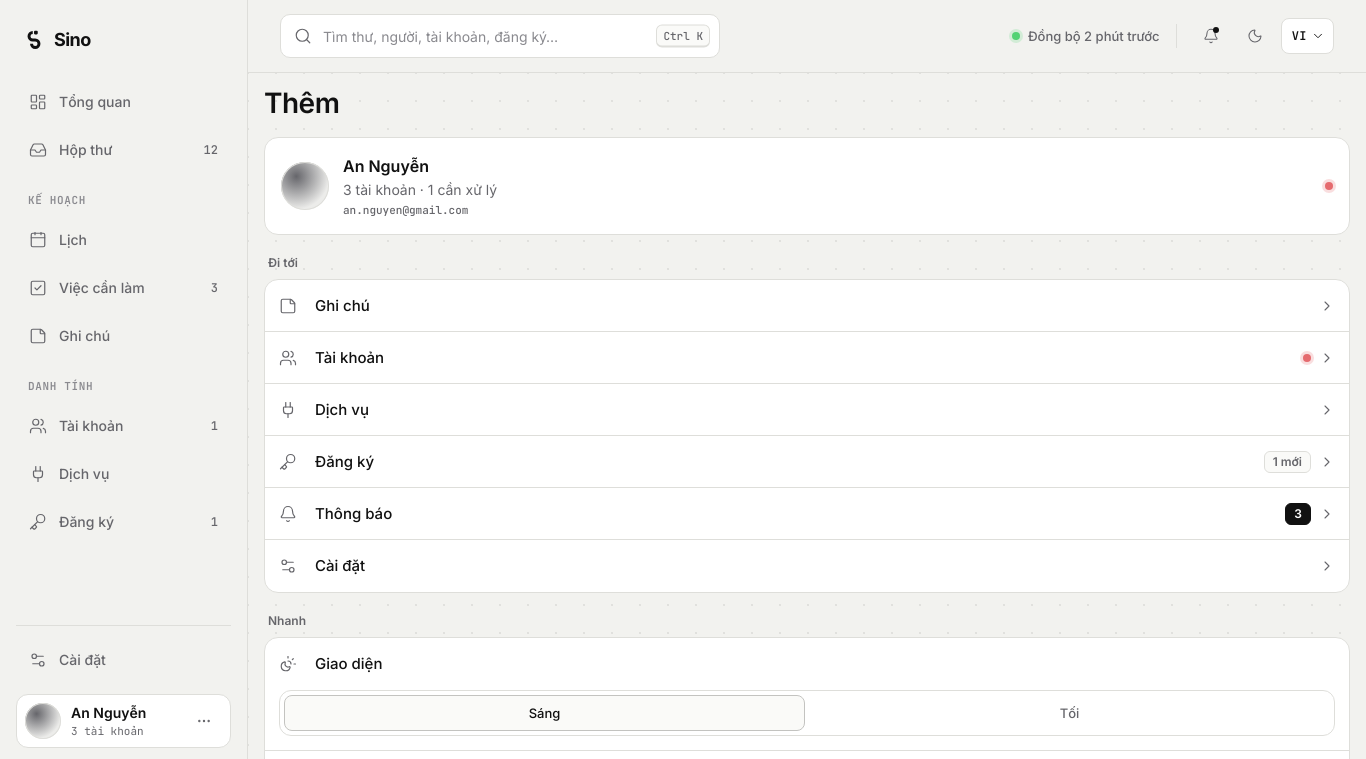
the owner menu and the end of a session › gathers the other screens, the theme and signing out on the mobile "Thêm" page
Expected: the heading "Thêm" is shown, [264, 85, 339, 121]
Expected: the text "an.nguyen@gmail.com" is shown, [343, 203, 468, 217]
What coordinates should you click on to do the following:
click the button "Tối"
I would click on:
 (1070, 713)
Its box is [809, 695, 1330, 731].
(page scrolled)
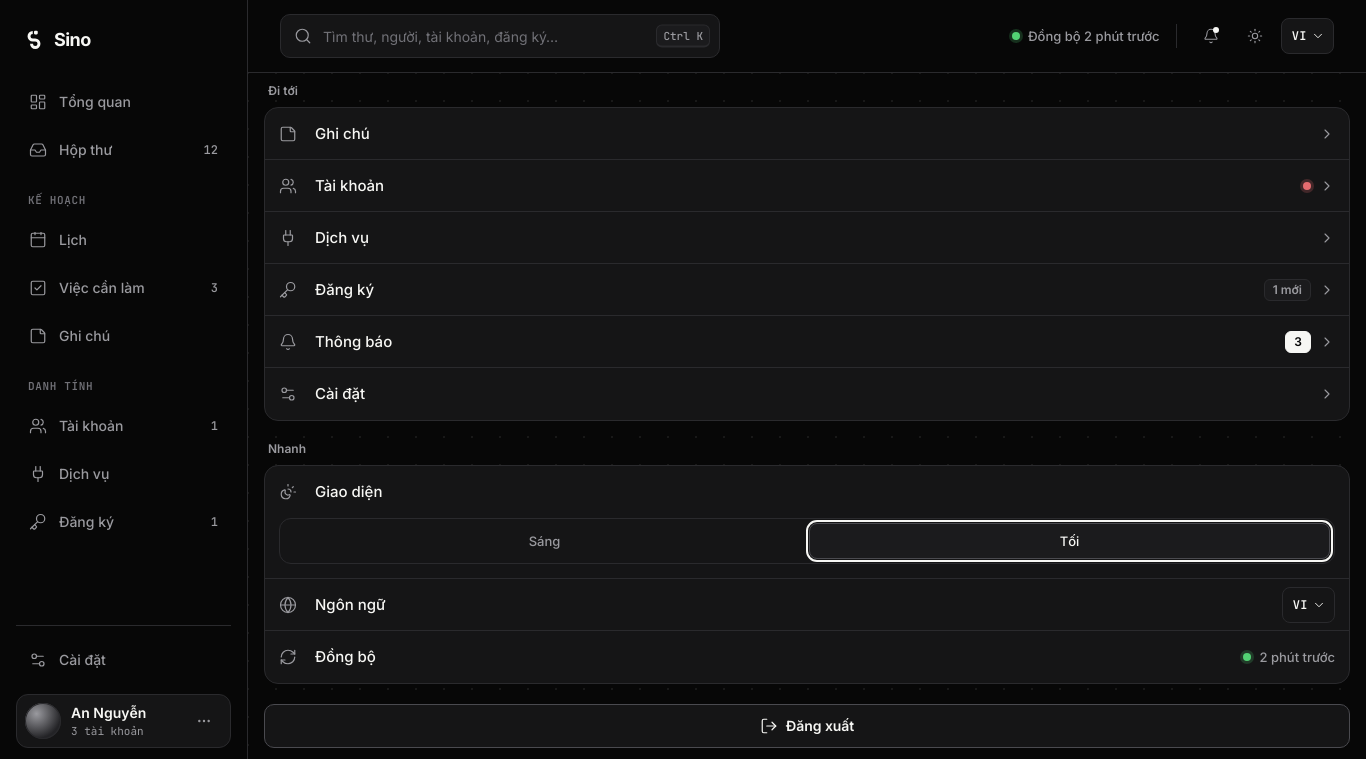
What coordinates should you click on to do the following:
click the button "Đăng xuất"
I would click on:
 (807, 726)
Its box is [264, 704, 1350, 748].
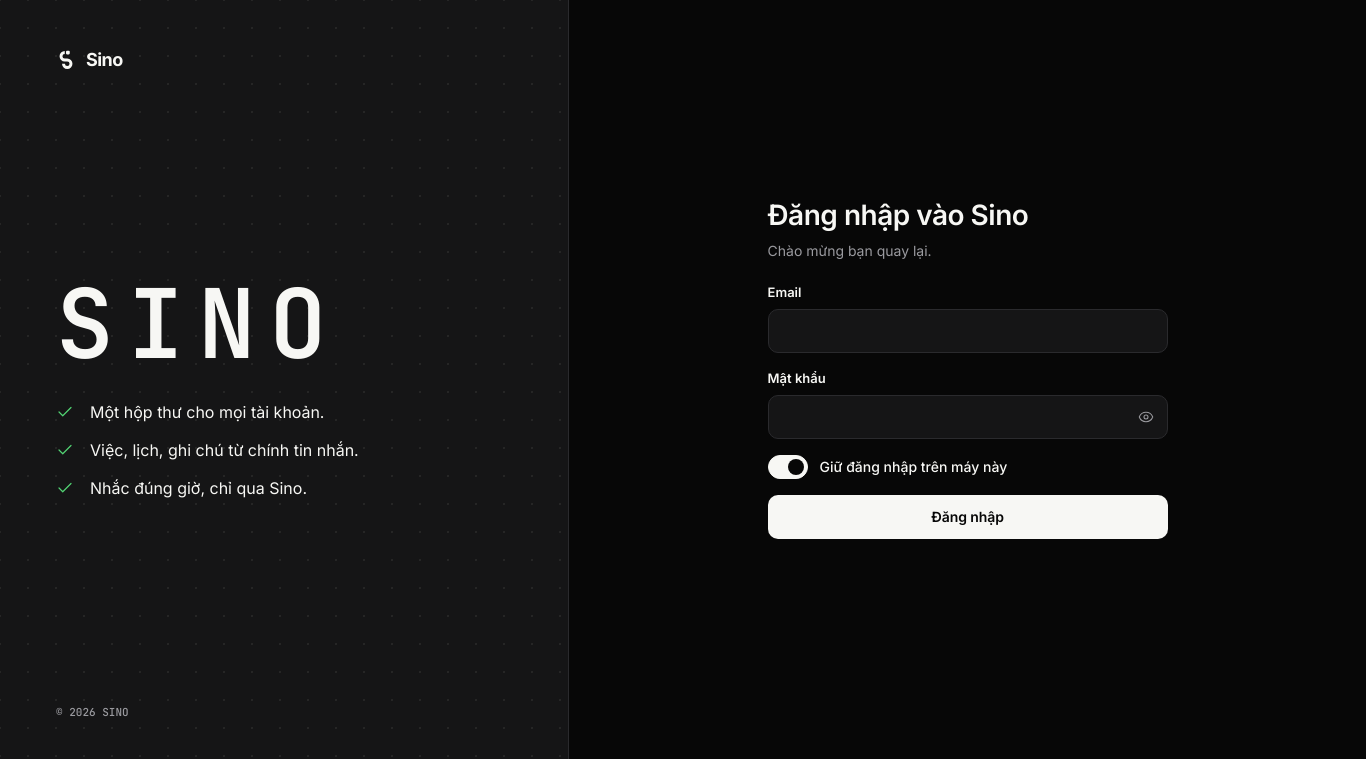
Now the heading "Đăng nhập vào Sino" is shown, box [768, 198, 1028, 232]
